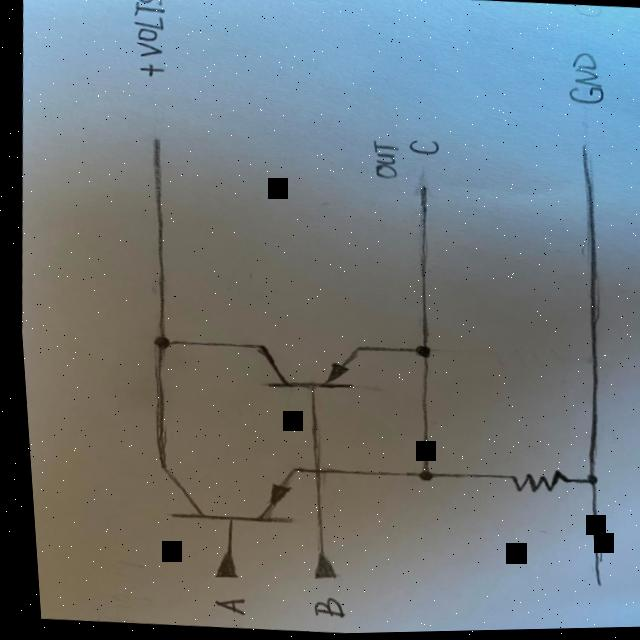crossover: (297, 460, 324, 483)
junction: (397, 335, 441, 367), (135, 329, 175, 358), (399, 463, 430, 487), (574, 474, 592, 489)
resistor: (493, 463, 566, 501)
terminal: (297, 546, 331, 584), (201, 542, 232, 583), (137, 127, 166, 159), (568, 138, 593, 171), (575, 565, 600, 592), (406, 183, 429, 208)
text: (554, 53, 605, 113), (126, 0, 169, 59), (365, 140, 397, 184), (401, 135, 440, 160), (300, 596, 338, 621), (201, 596, 239, 617), (134, 63, 162, 80)
transistor: (137, 449, 297, 536), (240, 332, 364, 401)
